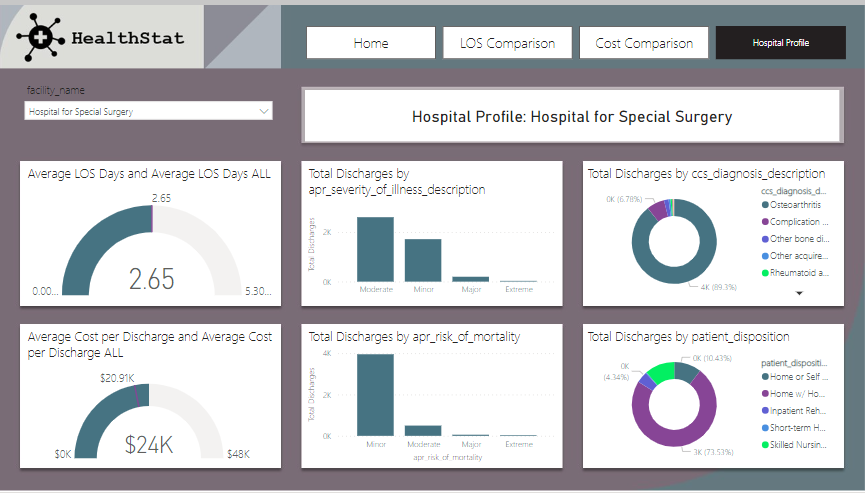

What the dashboard file says about the page in this screenshot:
{"tool":"powerbi","page":{"name":"Hospital Profile","canvas":[1280,720],"ordinal":3},"visuals":[{"type":"gauge","fields":{"Y":["_Measures.Average LOS Days"],"TargetValue":["_Measures.Average LOS Days ALL"]},"box":[35.7,235.3,377.9,203.9],"z":0},{"type":"gauge","fields":{"Y":["_Measures.Average Cost per Discharge"],"TargetValue":["_Measures.Average Cost per Discharge ALL"]},"box":[35.7,476.3,377.9,203.9],"z":1000},{"type":"clusteredColumnChart","fields":{"Y":["_Measures.Total Discharges"],"Category":["hospital_discharges.apr_severity_of_illness_description"]},"box":[450.6,235.3,377.9,203.9],"z":2000},{"type":"clusteredColumnChart","fields":{"Y":["_Measures.Total Discharges"],"Category":["hospital_discharges.apr_risk_of_mortality"]},"box":[450.6,476.3,377.9,203.9],"z":3000},{"type":"donutChart","fields":{"Y":["_Measures.Total Discharges"],"Category":["hospital_discharges.ccs_diagnosis_description"]},"box":[862.8,235.3,377.9,203.9],"z":4000},{"type":"donutChart","fields":{"Y":["_Measures.Total Discharges"],"Series":["hospital_discharges.patient_disposition"]},"box":[862.8,476.3,377.9,203.9],"z":5000},{"type":"slicer","fields":{"Values":["hospital_discharges.facility_name"]},"box":[27.1,109.8,386.5,107],"z":6000},{"type":"card","fields":{"Values":["_Measures.Title Selected Facility"]},"box":[450.6,125.5,790,75.6],"z":7000},{"type":"pageNavigator","box":[452.1,31.4,800,49.9],"z":8000}]}

Visuals, with their boxes in screenshot pixels (x1, y1, x2, y2), scaled from the page's 1280x720 canvas onto the 865x493 screenshot:
gauge - _Measures.Average LOS Days x _Measures.Average LOS Days ALL: bbox=[24, 161, 280, 301]
gauge - _Measures.Average Cost per Discharge x _Measures.Average Cost per Discharge ALL: bbox=[24, 326, 280, 466]
clusteredColumnChart - _Measures.Total Discharges x hospital_discharges.apr_severity_of_illness_description: bbox=[305, 161, 560, 301]
clusteredColumnChart - _Measures.Total Discharges x hospital_discharges.apr_risk_of_mortality: bbox=[305, 326, 560, 466]
donutChart - _Measures.Total Discharges x hospital_discharges.ccs_diagnosis_description: bbox=[583, 161, 838, 301]
donutChart - _Measures.Total Discharges x hospital_discharges.patient_disposition: bbox=[583, 326, 838, 466]
slicer - hospital_discharges.facility_name: bbox=[18, 75, 280, 148]
card - _Measures.Title Selected Facility: bbox=[305, 86, 838, 138]
pageNavigator: bbox=[306, 22, 846, 56]
